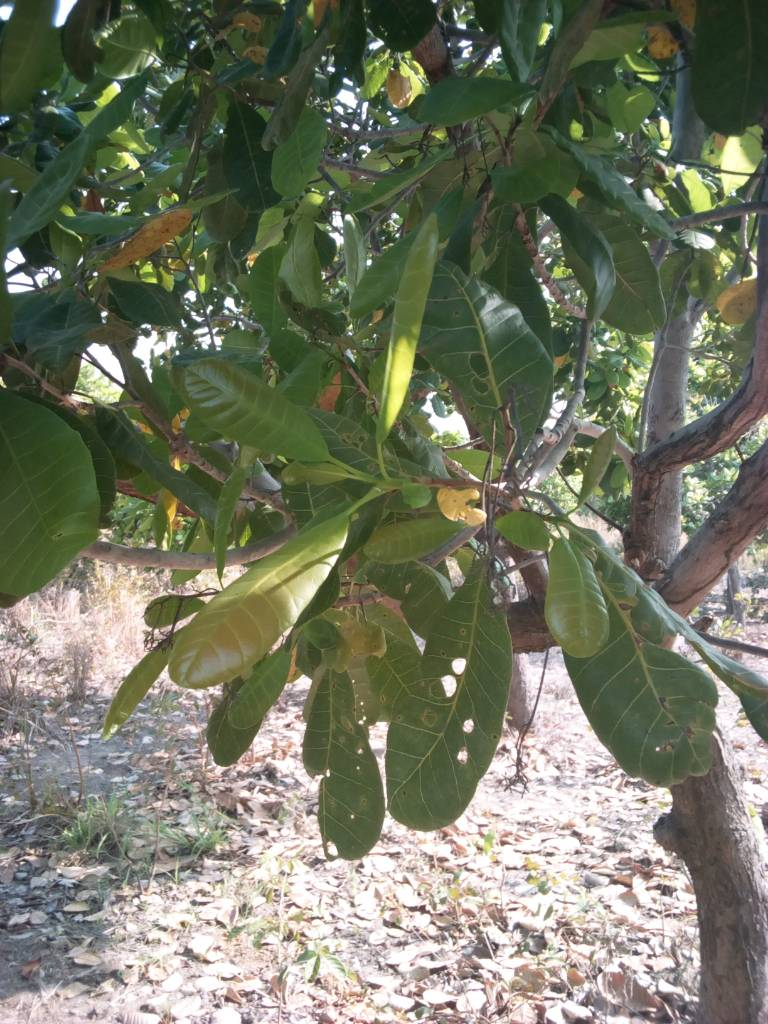Anoplocnemis curvipes: (391, 586, 500, 819), (608, 578, 719, 782), (436, 285, 547, 450), (311, 675, 380, 863)
